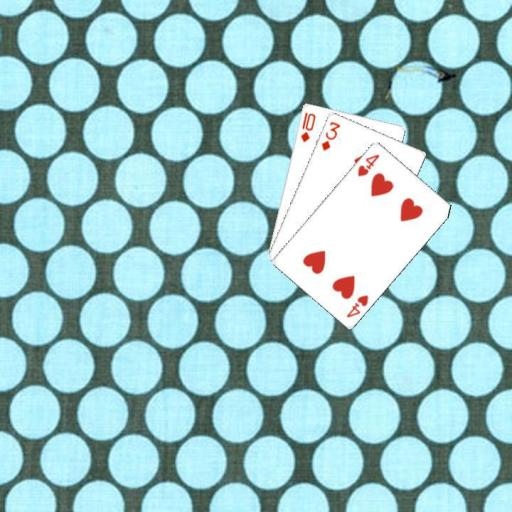10D: (298, 109, 317, 144)
3D: (318, 118, 342, 152)
4H: (354, 151, 381, 178), (343, 292, 370, 319)
